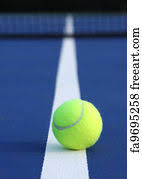tennis_ball: (52, 99, 103, 151)
